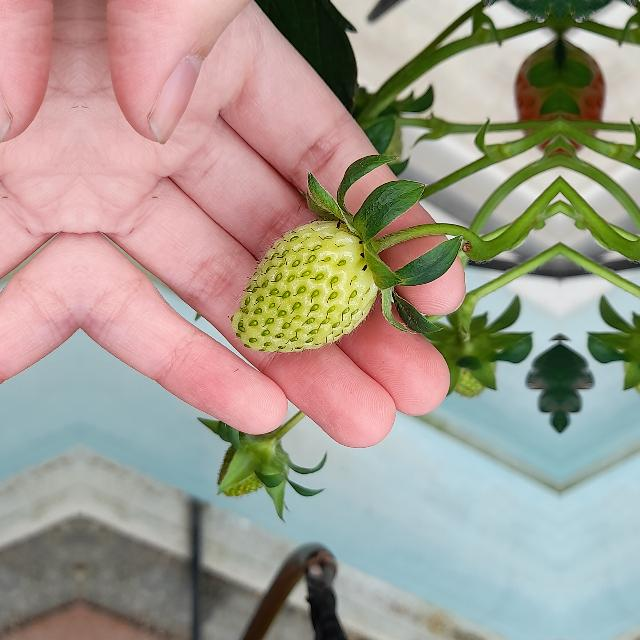Health_25: (230, 220, 378, 352), (218, 434, 284, 510)
